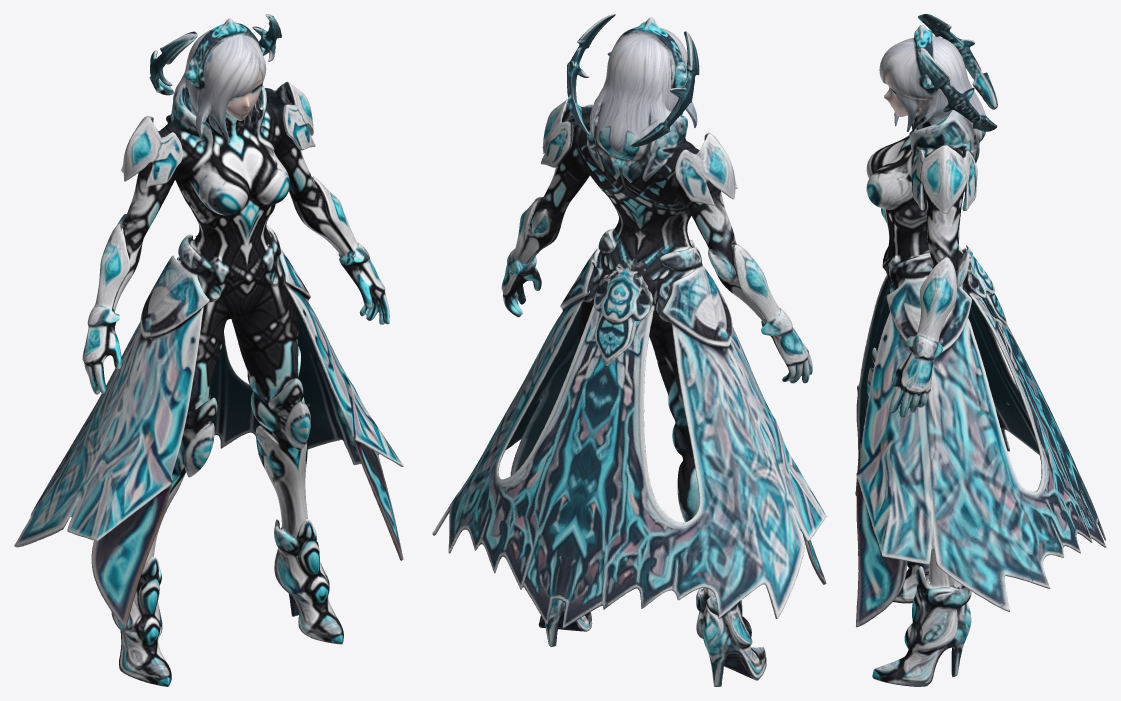
Rendered from sera_n4.glb.
3 views of the same model, side by side, from view 1: azimuth 30°, elevation 25°; view 2: azimuth 150°, elevation 25°; view 3: azimuth 270°, elevation 25° (orthographic). The views are drawn at different scales.
Size of the model in its own units: 1.08 by 1.9 by 0.7056.
Materials: 1 (1 with a texture image).
